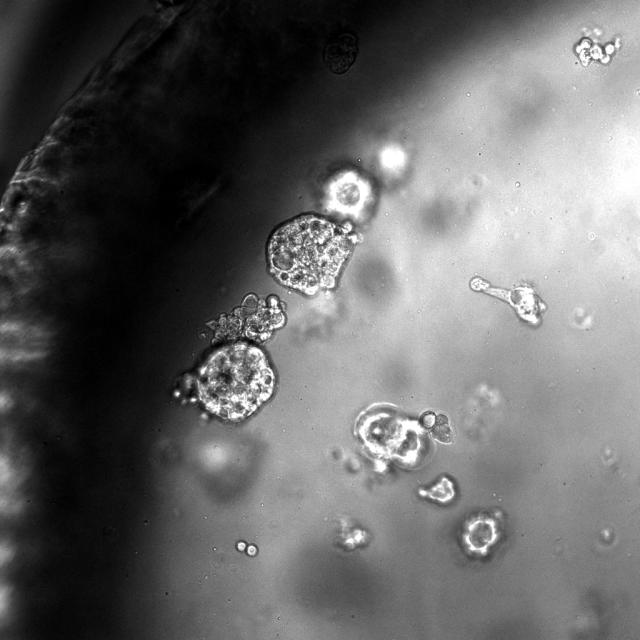organoid: (172, 293, 286, 423), (266, 212, 361, 296), (352, 403, 453, 476), (314, 162, 379, 225), (469, 276, 548, 326), (458, 508, 506, 560), (574, 36, 621, 66), (418, 473, 459, 505), (334, 519, 370, 552), (235, 539, 259, 557)
